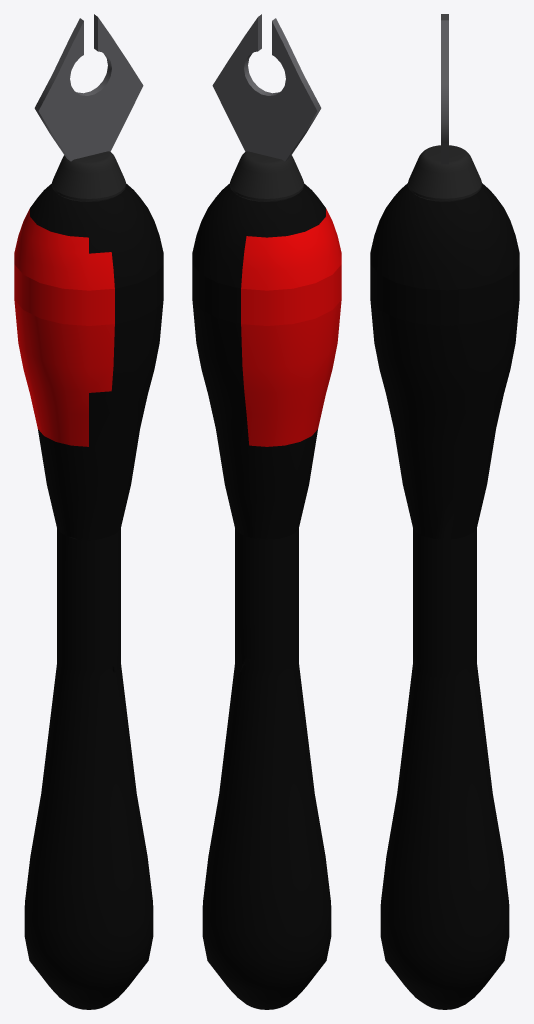
The model's file is BLOODY PEN.fbx.
The picture shows the model from 3 angles, left to right: view 1: azimuth 30°, elevation 25°; view 2: azimuth 150°, elevation 25°; view 3: azimuth 270°, elevation 25°; orthographic projection.
Visible parts, largest first — view 1: Cylinder001, Object, Box001, Cone001; view 2: Cylinder001, Object, Box001, Cone001; view 3: Cylinder001, Cone001, Box001.
Part boxes in pixels (bbox=[...]): Cylinder001: bbox=[24, 184, 163, 1009]; Object: bbox=[14, 208, 114, 446]; Box001: bbox=[34, 14, 143, 161]; Cone001: bbox=[51, 151, 126, 201]; Cylinder001: bbox=[192, 184, 331, 1009]; Object: bbox=[241, 208, 341, 446]; Box001: bbox=[212, 14, 321, 161]; Cone001: bbox=[229, 151, 304, 201]; Cylinder001: bbox=[370, 183, 519, 1009]; Cone001: bbox=[407, 145, 482, 201]; Box001: bbox=[441, 14, 448, 164].
Bounding box in the file's own units: 0.9377 × 6.72 × 0.9235.
